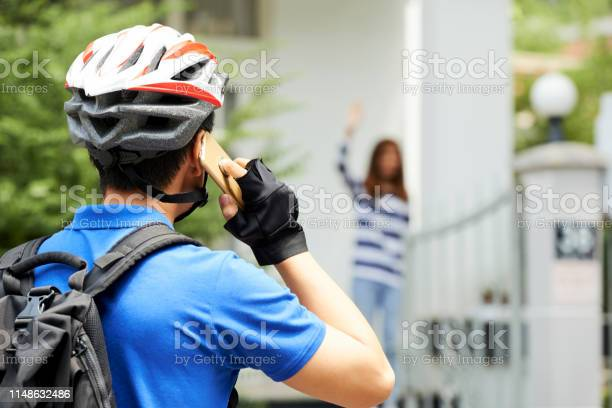helmet: (63, 22, 229, 221)
